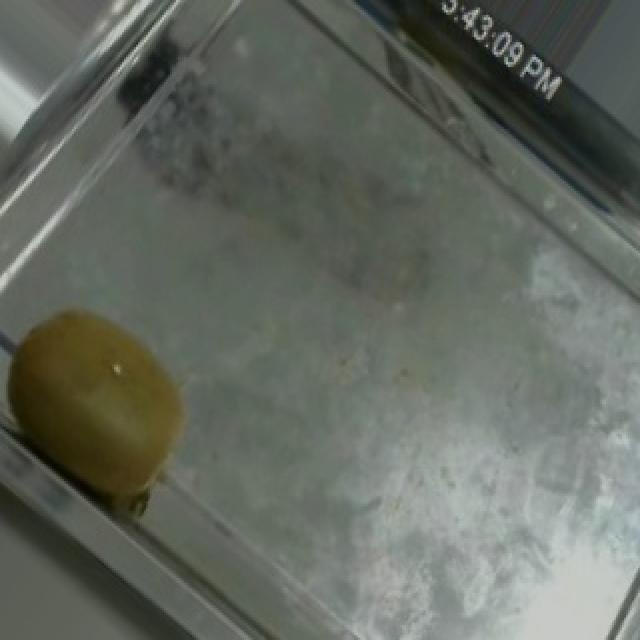Fruit: (0, 273, 226, 533)
